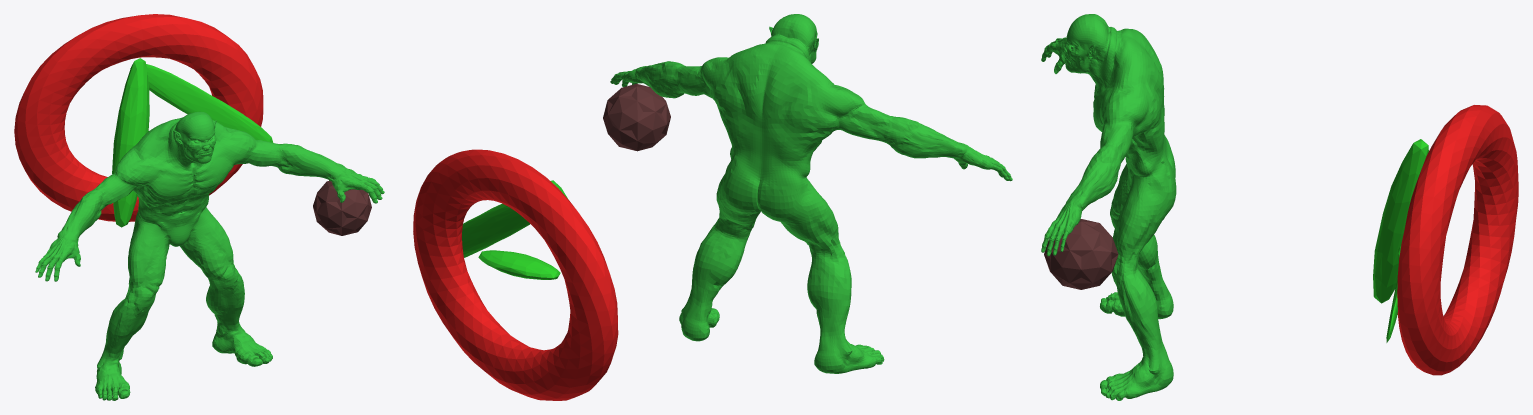
Rendered from yitingc.dae.
3 renders of one model, left to right at view 1: azimuth 30°, elevation 25°; view 2: azimuth 150°, elevation 25°; view 3: azimuth 270°, elevation 25°, orthographic. The views are drawn at different scales.
Visible parts, largest first — view 1: Beast-S3D-13-SMOOTHED, TwistedTorus-S3D-15-SMOOTHED, Cube-S3D-16, Cube-S3D-17, Dodecahedron-S3D-14; view 2: Beast-S3D-13-SMOOTHED, TwistedTorus-S3D-15-SMOOTHED, Dodecahedron-S3D-14, Cube-S3D-17, Cube-S3D-18; view 3: Beast-S3D-13-SMOOTHED, TwistedTorus-S3D-15-SMOOTHED, Cube-S3D-16, Dodecahedron-S3D-14.
Boxes of the visible parts, <box> form: Beast-S3D-13-SMOOTHED: <box>35,111,384,400</box>; TwistedTorus-S3D-15-SMOOTHED: <box>14,14,263,221</box>; Cube-S3D-16: <box>112,58,149,227</box>; Cube-S3D-17: <box>130,64,273,142</box>; Dodecahedron-S3D-14: <box>313,181,371,235</box>; Beast-S3D-13-SMOOTHED: <box>610,14,1012,373</box>; TwistedTorus-S3D-15-SMOOTHED: <box>413,149,618,400</box>; Dodecahedron-S3D-14: <box>603,83,670,151</box>; Cube-S3D-17: <box>462,203,529,257</box>; Cube-S3D-18: <box>478,250,560,279</box>; Beast-S3D-13-SMOOTHED: <box>1041,14,1176,400</box>; TwistedTorus-S3D-15-SMOOTHED: <box>1397,105,1518,375</box>; Cube-S3D-16: <box>1373,139,1428,303</box>; Dodecahedron-S3D-14: <box>1044,219,1118,289</box>.
Size of the model in its own units: 3.96 by 2.79 by 3.6.
